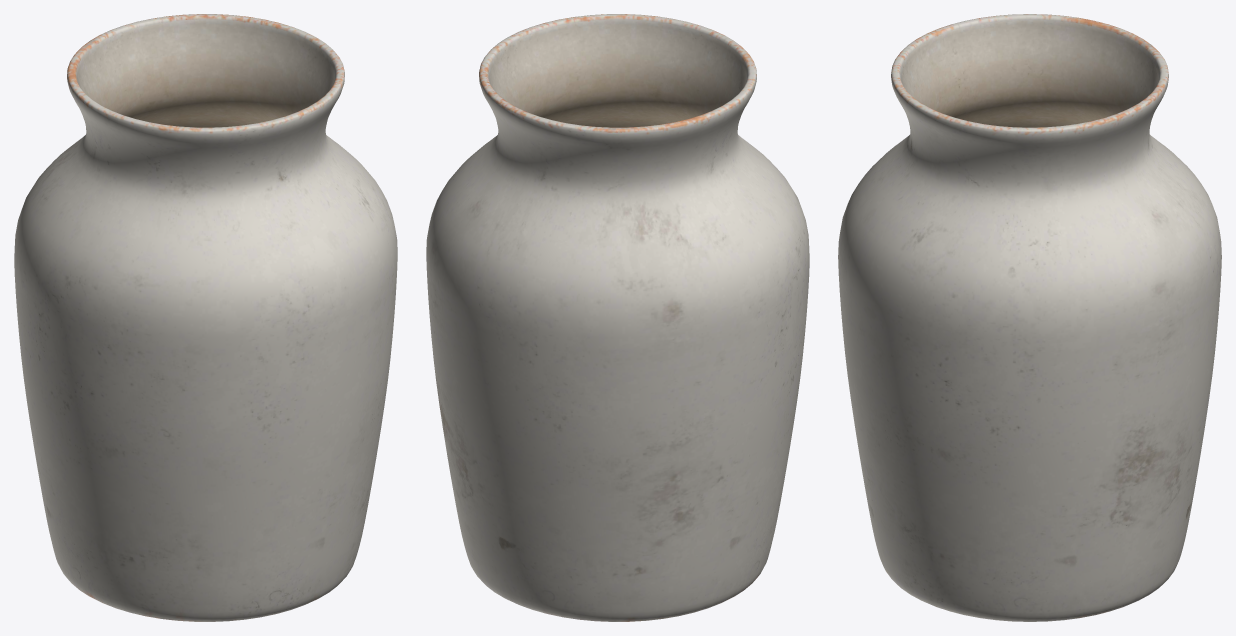
The model's file is ceramic_vase_02_4k-v1.glb.
3 renders of one model, left to right at view 1: azimuth 30°, elevation 25°; view 2: azimuth 150°, elevation 25°; view 3: azimuth 270°, elevation 25°, orthographic.
Parts seen in each view (by area): view 1: ceramic_vase_02; view 2: ceramic_vase_02; view 3: ceramic_vase_02.
Part boxes in pixels (<box>): ceramic_vase_02: <box>14,14,397,621</box>; ceramic_vase_02: <box>426,14,809,621</box>; ceramic_vase_02: <box>838,14,1221,621</box>.
Bounding box in the file's own units: 0.2184 × 0.3092 × 0.2184.
1 material, 1 textured.
